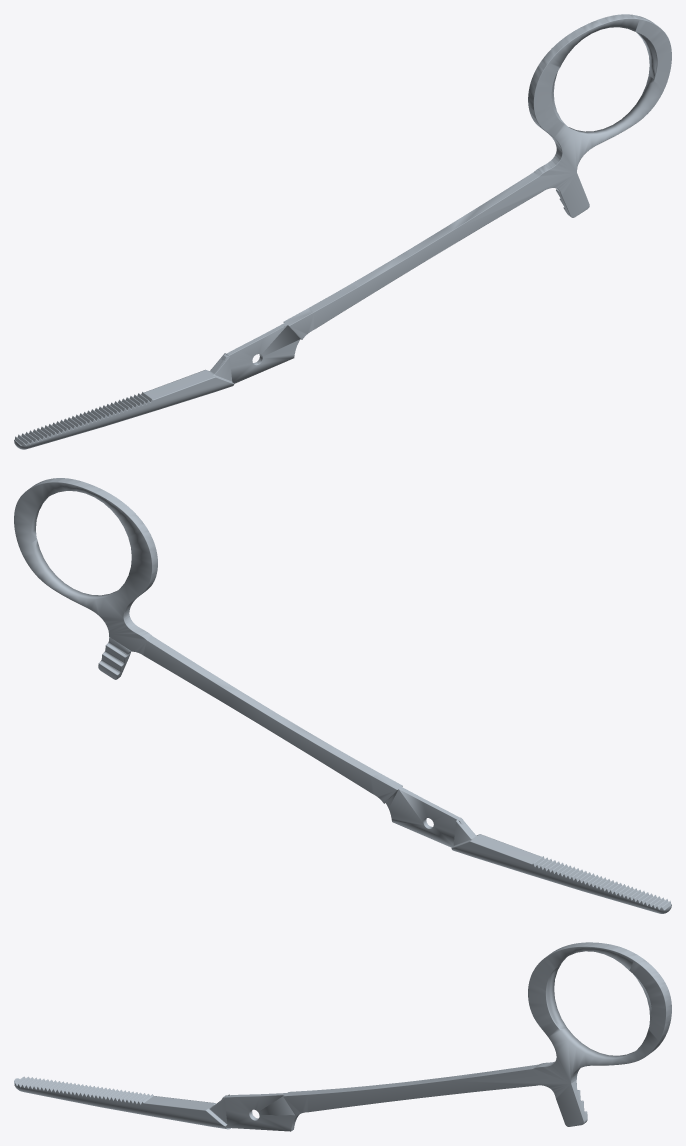
The model's file is moving.obj.
The picture shows the model from 3 angles, top to bottom: view 1: azimuth 30°, elevation 25°; view 2: azimuth 150°, elevation 25°; view 3: azimuth 330°, elevation 25°; orthographic projection.
Bounding box in the file's own units: 0.1422 × 0.0597 × 0.00376.
